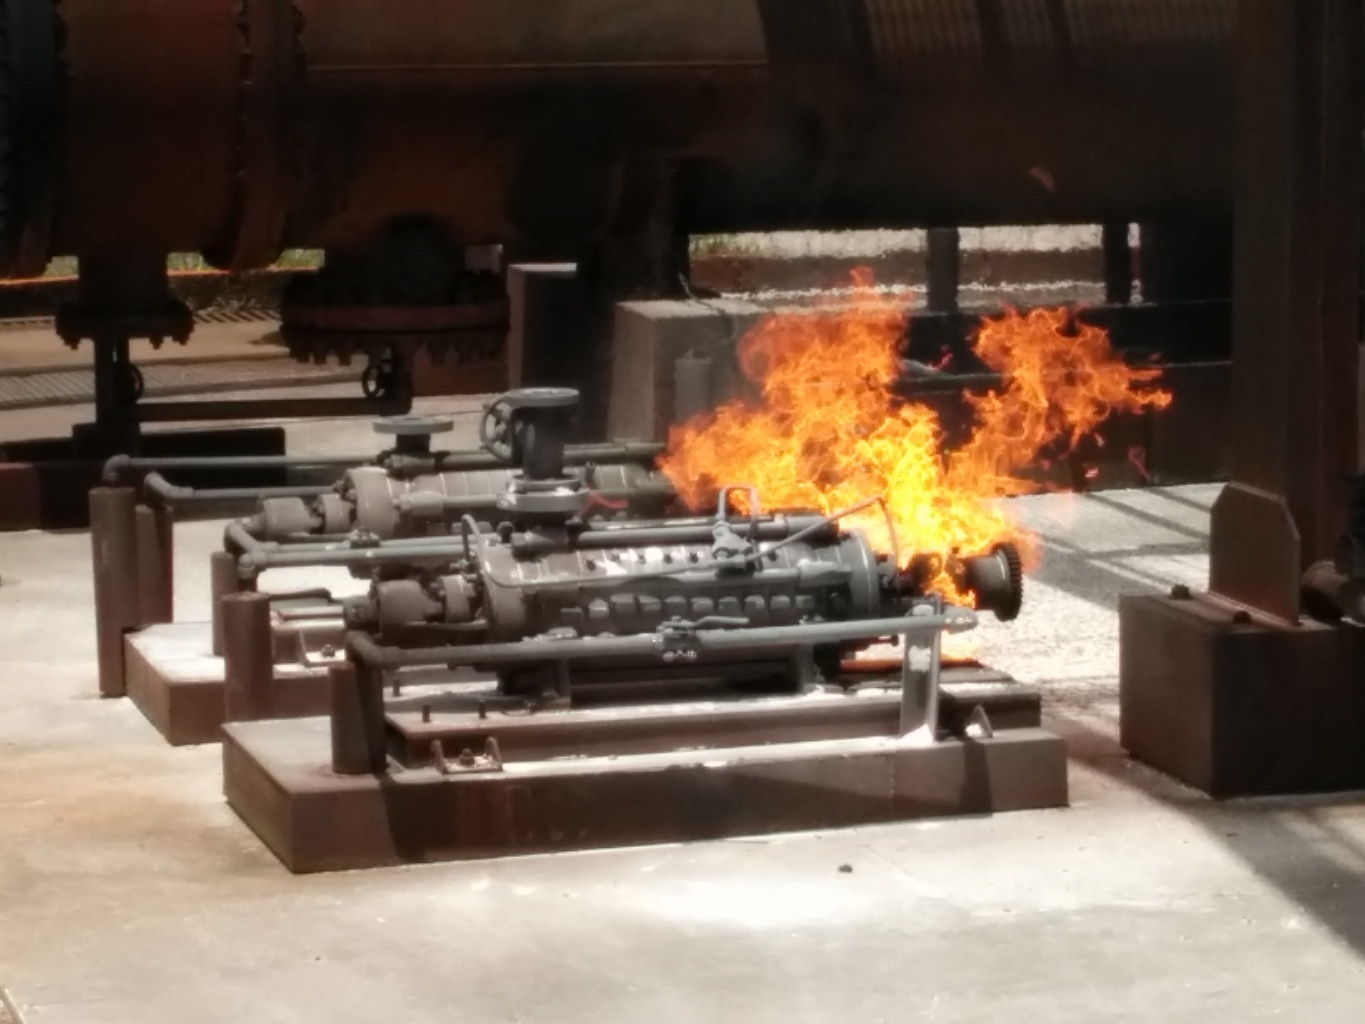fire: (660, 290, 1170, 626)
